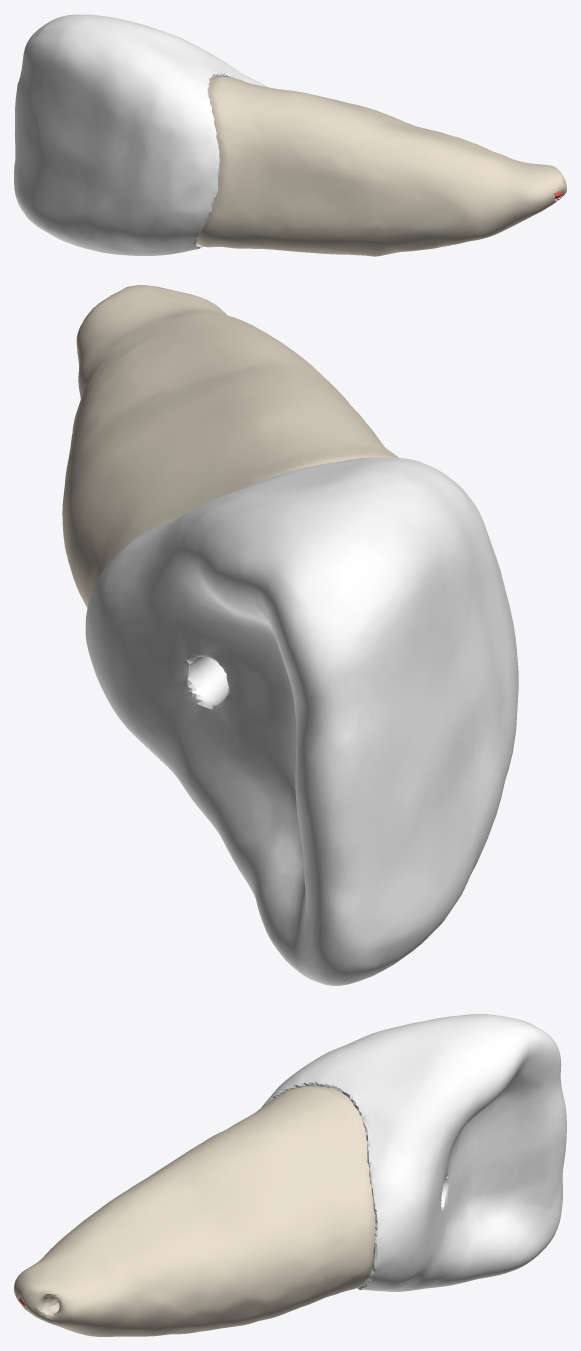
Rendered from 牙内陷4.fbx.
3 renders of one model, top to bottom at view 1: azimuth 30°, elevation 25°; view 2: azimuth 150°, elevation 25°; view 3: azimuth 270°, elevation 25°, orthographic. The views are drawn at different scales.
Parts seen in each view (by area): view 1: texture_B, texture_W; view 2: texture_W, texture_B; view 3: texture_B, texture_W.
Boxes of the visible parts, left/top/right/bottom form: texture_B: left=196, top=76, right=566, bottom=256; texture_W: left=14, top=14, right=267, bottom=255; texture_W: left=85, top=457, right=518, bottom=985; texture_B: left=62, top=285, right=398, bottom=607; texture_B: left=14, top=1086, right=375, bottom=1336; texture_W: left=261, top=1014, right=566, bottom=1291.
Bounding box in the file's own units: 20.61 × 12 × 23.57.
Materials: 3 (3 with a texture image).
